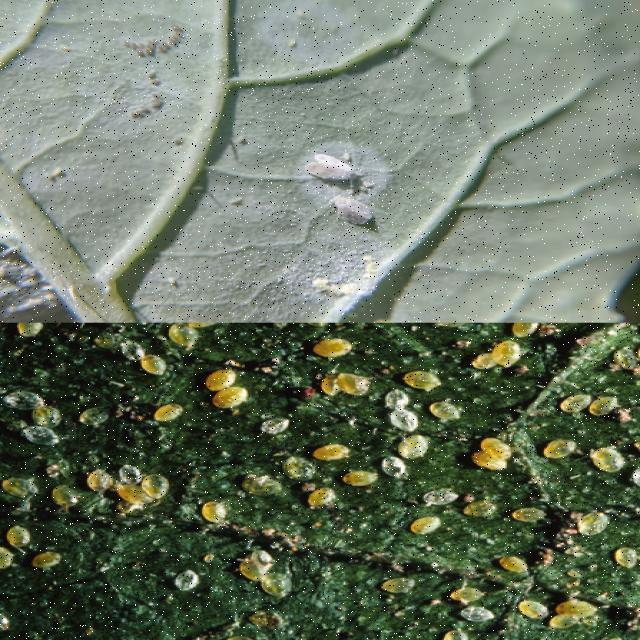Whiteflies: (267, 134, 412, 194), (310, 181, 402, 228)
